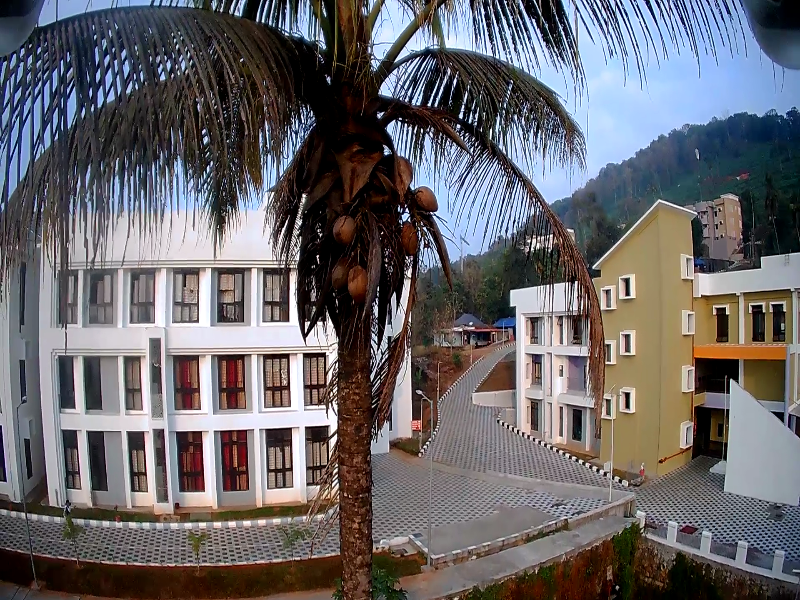coconut: (417, 179, 435, 217), (335, 211, 354, 247), (350, 263, 366, 303), (402, 220, 418, 252), (331, 263, 343, 288)
